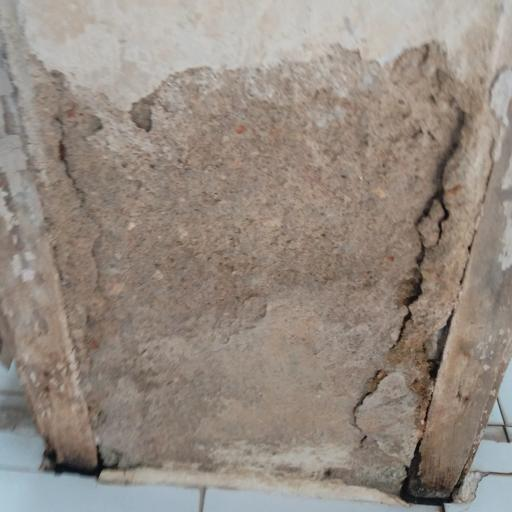spalling: (10, 45, 476, 499)
